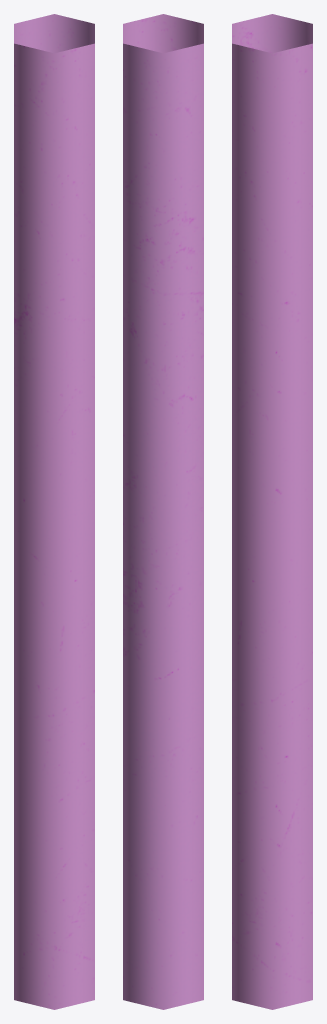
File: PipeSmall_01_SM_Low.fbx
The picture shows the model from 3 angles, left to right: view 1: azimuth 30°, elevation 25°; view 2: azimuth 210°, elevation 25°; view 3: azimuth 330°, elevation 25°; orthographic projection.
Parts seen in each view (by area): view 1: Small_Single; view 2: Small_Single; view 3: Small_Single.
Part boxes in pixels (bbox=[...]): Small_Single: bbox=[14, 14, 94, 1009]; Small_Single: bbox=[123, 14, 203, 1009]; Small_Single: bbox=[232, 14, 312, 1009].
Size of the model in its own units: 8.83 by 100 by 7.64.
Materials: 1 (1 with a texture image).
